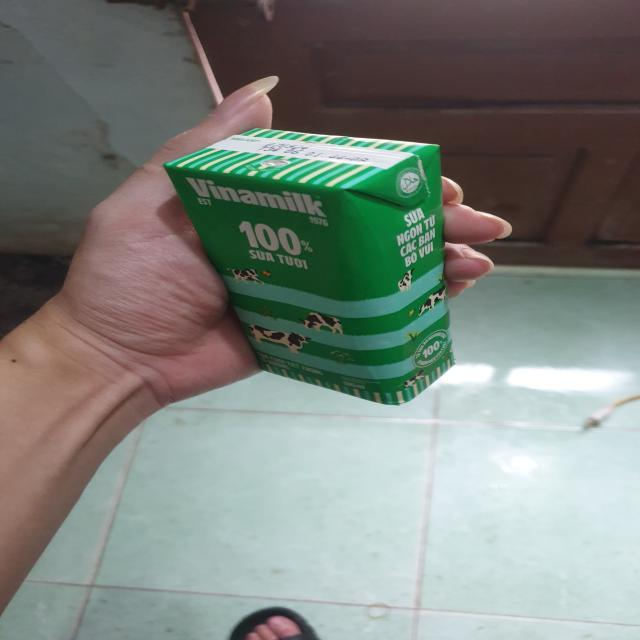Vina: (162, 130, 464, 403)
